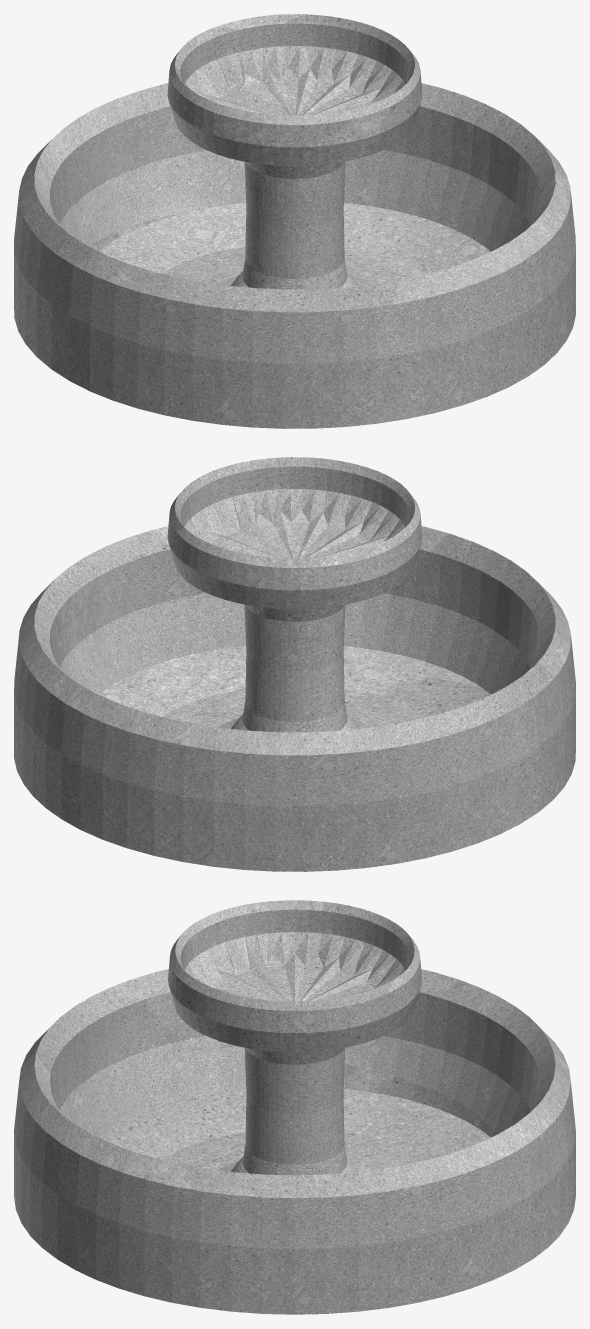
File: Fountain.FBX
The picture shows the model from 3 angles, top to bottom: view 1: azimuth 30°, elevation 25°; view 2: azimuth 150°, elevation 25°; view 3: azimuth 270°, elevation 25°; orthographic projection.
Visible parts, largest first — view 1: Circle001; view 2: Circle001; view 3: Circle001.
Boxes of the visible parts, x1,y1,x2,y2 form: Circle001: (14,14,575,428); Circle001: (14,457,575,871); Circle001: (14,900,575,1314).
Bounding box in the file's own units: 5.04 × 2.42 × 5.04.
1 material, 1 textured.
